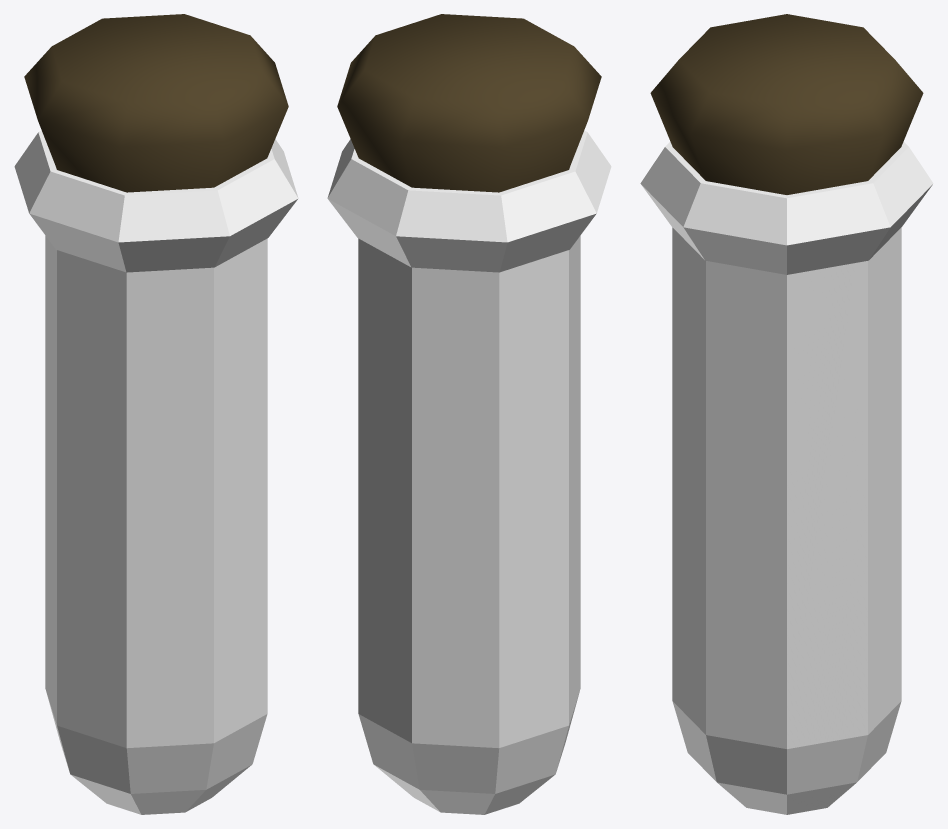
File: PurplePotion.fbx
3 views of the same model, side by side, from view 1: azimuth 30°, elevation 25°; view 2: azimuth 150°, elevation 25°; view 3: azimuth 270°, elevation 25° (orthographic).
Visible parts, largest first — view 1: Sphere, Cylinder; view 2: Sphere, Cylinder; view 3: Sphere, Cylinder.
Part boxes in pixels (x1,y1,x2,y2): Sphere: (14, 130, 298, 814); Cylinder: (24, 14, 288, 192); Sphere: (327, 130, 611, 814); Cylinder: (337, 14, 601, 192); Sphere: (640, 141, 933, 814); Cylinder: (650, 14, 923, 194).
Bounding box in the file's own units: 256 × 717 × 256.
